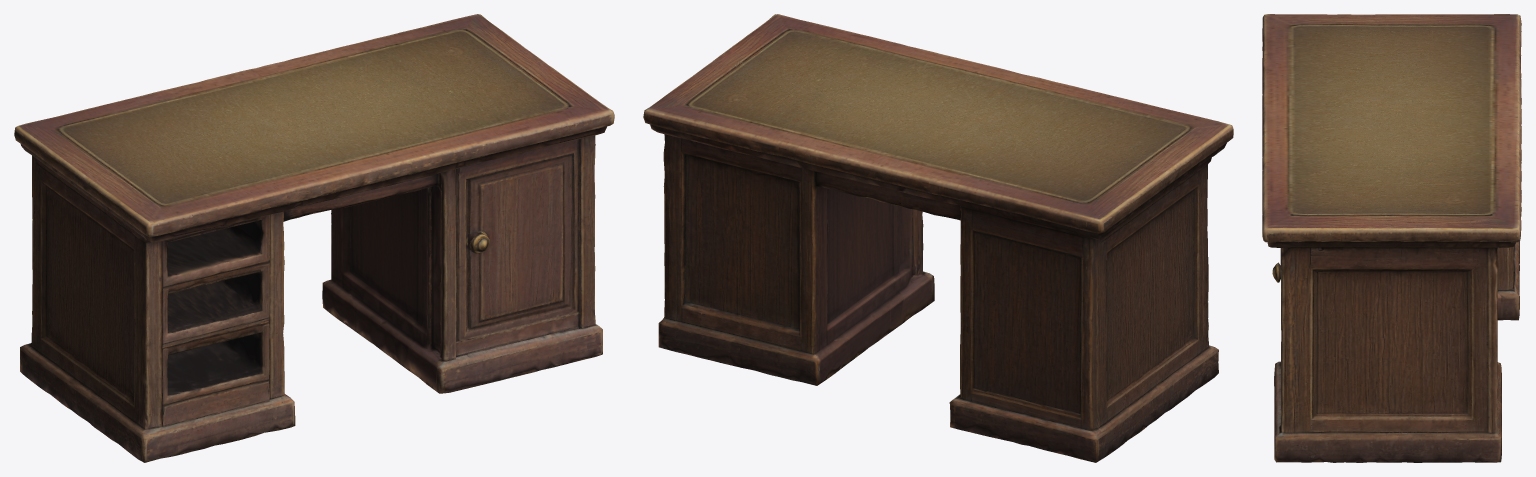
File: Furn_Desk_Body.fbx
3 views of the same model, side by side, from view 1: azimuth 30°, elevation 25°; view 2: azimuth 150°, elevation 25°; view 3: azimuth 270°, elevation 25° (orthographic). The views are drawn at different scales.
Parts seen in each view (by area): view 1: texture_mapping; view 2: texture_mapping; view 3: texture_mapping.
Boxes of the visible parts, left/top/right/bottom form: texture_mapping: left=14, top=14, right=614, bottom=462; texture_mapping: left=643, top=14, right=1233, bottom=462; texture_mapping: left=1262, top=14, right=1521, bottom=462.
Bounding box in the file's own units: 1 × 0.5053 × 0.5103.
1 material, 1 textured.
